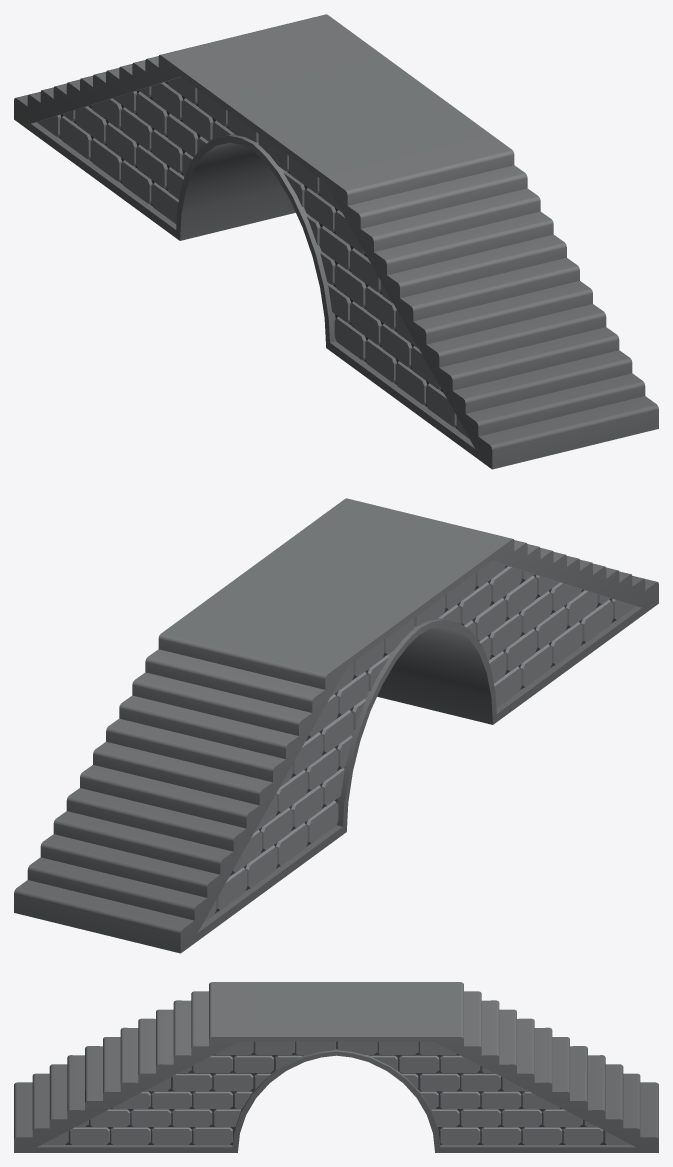
Rendered from stairs_002.glb.
3 views of the same model, one above another, from view 1: azimuth 30°, elevation 25°; view 2: azimuth 150°, elevation 25°; view 3: azimuth 270°, elevation 25° (orthographic). The views are drawn at different scales.
Visible parts, largest first — view 1: stairs_002; view 2: stairs_002; view 3: stairs_002.
Part boxes in pixels (bbox=[...]): stairs_002: bbox=[14, 14, 658, 469]; stairs_002: bbox=[14, 498, 658, 953]; stairs_002: bbox=[14, 982, 658, 1152].
Bounding box in the file's own units: 5.09 × 5 × 25.25.
1 material, 1 textured.
